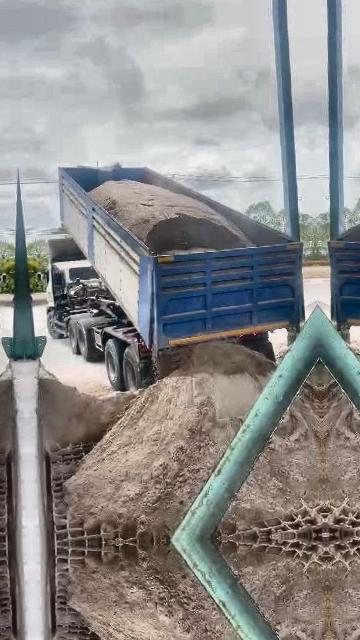sand: (66, 343, 274, 541), (219, 385, 325, 534), (89, 180, 252, 254), (38, 372, 133, 451), (308, 360, 321, 387)
